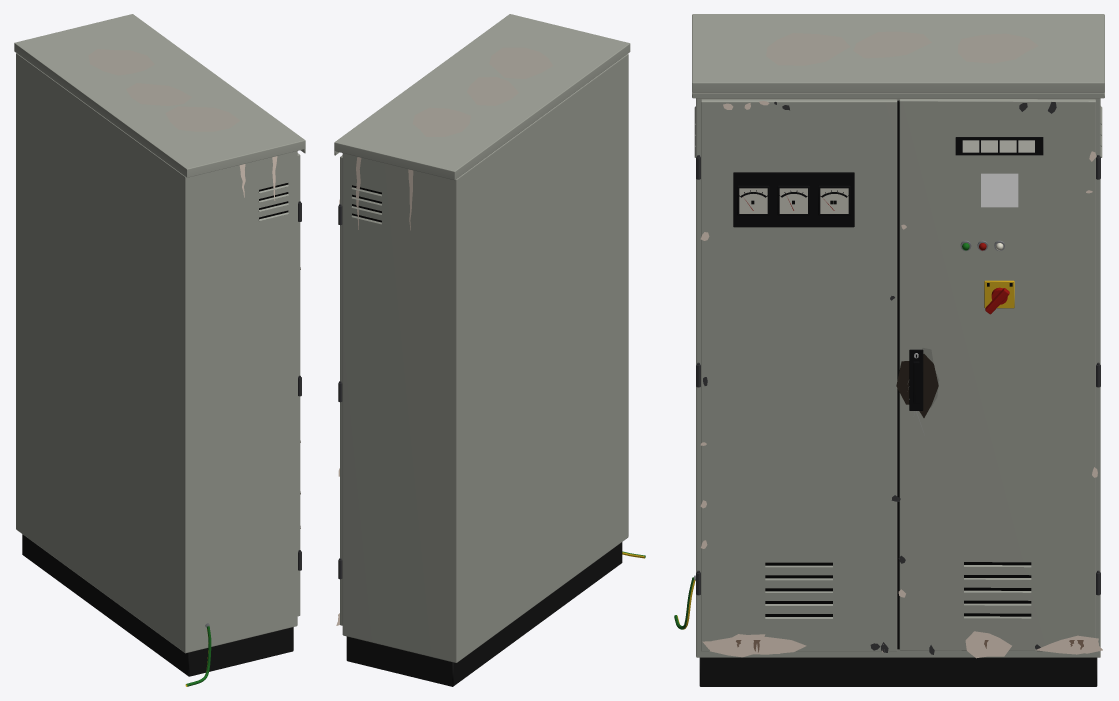
The model's file is switch_cabinet.glb.
3 views of the same model, side by side, from view 1: azimuth 30°, elevation 25°; view 2: azimuth 150°, elevation 25°; view 3: azimuth 270°, elevation 25° (orthographic). The views are drawn at different scales.
Visible parts, largest first — view 1: teil.001, teil, teil.024; view 2: teil.001, teil, teil.024, teil.020; view 3: teil.001, teil, teil.005, teil.024, teil.020, teil.002, teil.007, teil.004, teil.011, teil.003, teil.022, teil.010.
Boxes of the visible parts, left/top/right/bottom form: teil.001: left=14, top=14, right=305, bottom=653; teil: left=22, top=534, right=293, bottom=676; teil.024: left=88, top=49, right=239, bottom=131; teil.001: left=334, top=14, right=630, bottom=662; teil: left=346, top=542, right=622, bottom=686; teil.024: left=412, top=47, right=552, bottom=136; teil.020: left=336, top=157, right=413, bottom=625; teil.001: left=692, top=14, right=1104, bottom=657; teil: left=699, top=657, right=1097, bottom=686; teil.005: left=733, top=137, right=1043, bottom=410; teil.024: left=766, top=31, right=1038, bottom=65; teil.020: left=700, top=101, right=1102, bottom=658; teil.002: left=765, top=354, right=1031, bottom=616; teil.007: left=739, top=188, right=848, bottom=213; teil.004: left=897, top=100, right=899, bottom=649; teil.011: left=981, top=173, right=1018, bottom=207; teil.003: left=696, top=102, right=1100, bottom=654; teil.022: left=896, top=354, right=938, bottom=417; teil.010: left=962, top=140, right=1034, bottom=152.
Bounding box in the file's own units: 0.5527 × 2 × 1.28.
